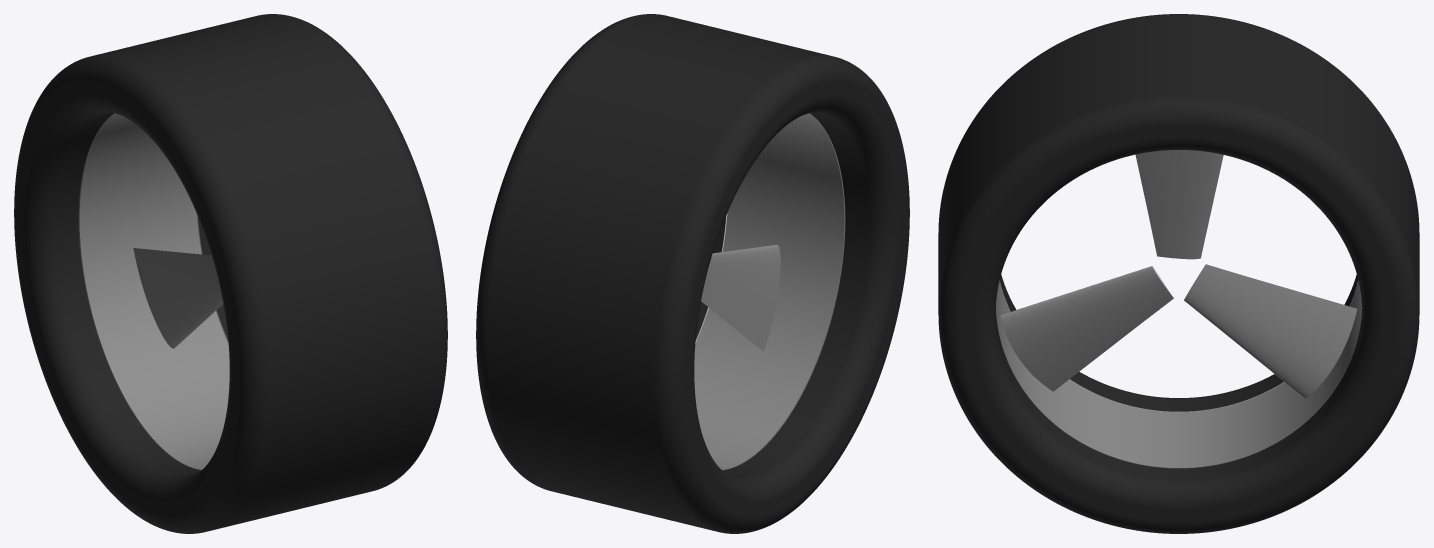
3 renders of one model, left to right at view 1: azimuth 30°, elevation 25°; view 2: azimuth 150°, elevation 25°; view 3: azimuth 270°, elevation 25°, orthographic.
Visible parts, largest first — view 1: mesh11, mesh2.001, mesh10, mesh6, mesh5, mesh8, mesh1.001, mesh9, mesh5.001; view 2: mesh11, mesh2.001, mesh10, mesh6, mesh5, mesh8, mesh6.001, mesh9, mesh5.001; view 3: mesh11, mesh9, mesh4, mesh2.001, mesh7, mesh1.001, mesh6.001, mesh8.001, mesh3, mesh5, mesh10, mesh6.
Part boxes in pixels (box(x1,y1,x2,y2)): mesh11: box(93, 14, 436, 530); mesh2.001: box(79, 113, 229, 469); mesh10: box(14, 55, 269, 533); mesh6: box(24, 95, 232, 503); mesh5: box(54, 112, 200, 476); mesh8: box(17, 81, 239, 516); mesh1.001: box(133, 248, 223, 348); mesh9: box(262, 14, 447, 489); mesh5.001: box(78, 113, 201, 470); mesh11: box(487, 14, 830, 530); mesh2.001: box(694, 113, 844, 469); mesh10: box(654, 55, 909, 533); mesh6: box(691, 95, 899, 503); mesh5: box(723, 112, 869, 476); mesh8: box(684, 81, 906, 516); mesh6.001: box(701, 244, 780, 351); mesh9: box(476, 14, 661, 489); mesh5.001: box(722, 113, 845, 470); mesh11: box(938, 16, 1419, 312); mesh9: box(938, 96, 1419, 533); mesh4: box(973, 137, 1384, 509); mesh2.001: box(995, 281, 1362, 467); mesh7: box(960, 125, 1397, 521); mesh1.001: box(1184, 264, 1357, 398); mesh6.001: box(1000, 266, 1173, 391); mesh8.001: box(1135, 150, 1223, 259); mesh3: box(995, 309, 1362, 479); mesh5: box(999, 274, 1358, 411); mesh10: box(945, 14, 1412, 180); mesh6: box(1001, 275, 1356, 399).
Size of the model in its own units: 0.212 by 0.4373 by 0.4373.
4 materials, 1 textured.
